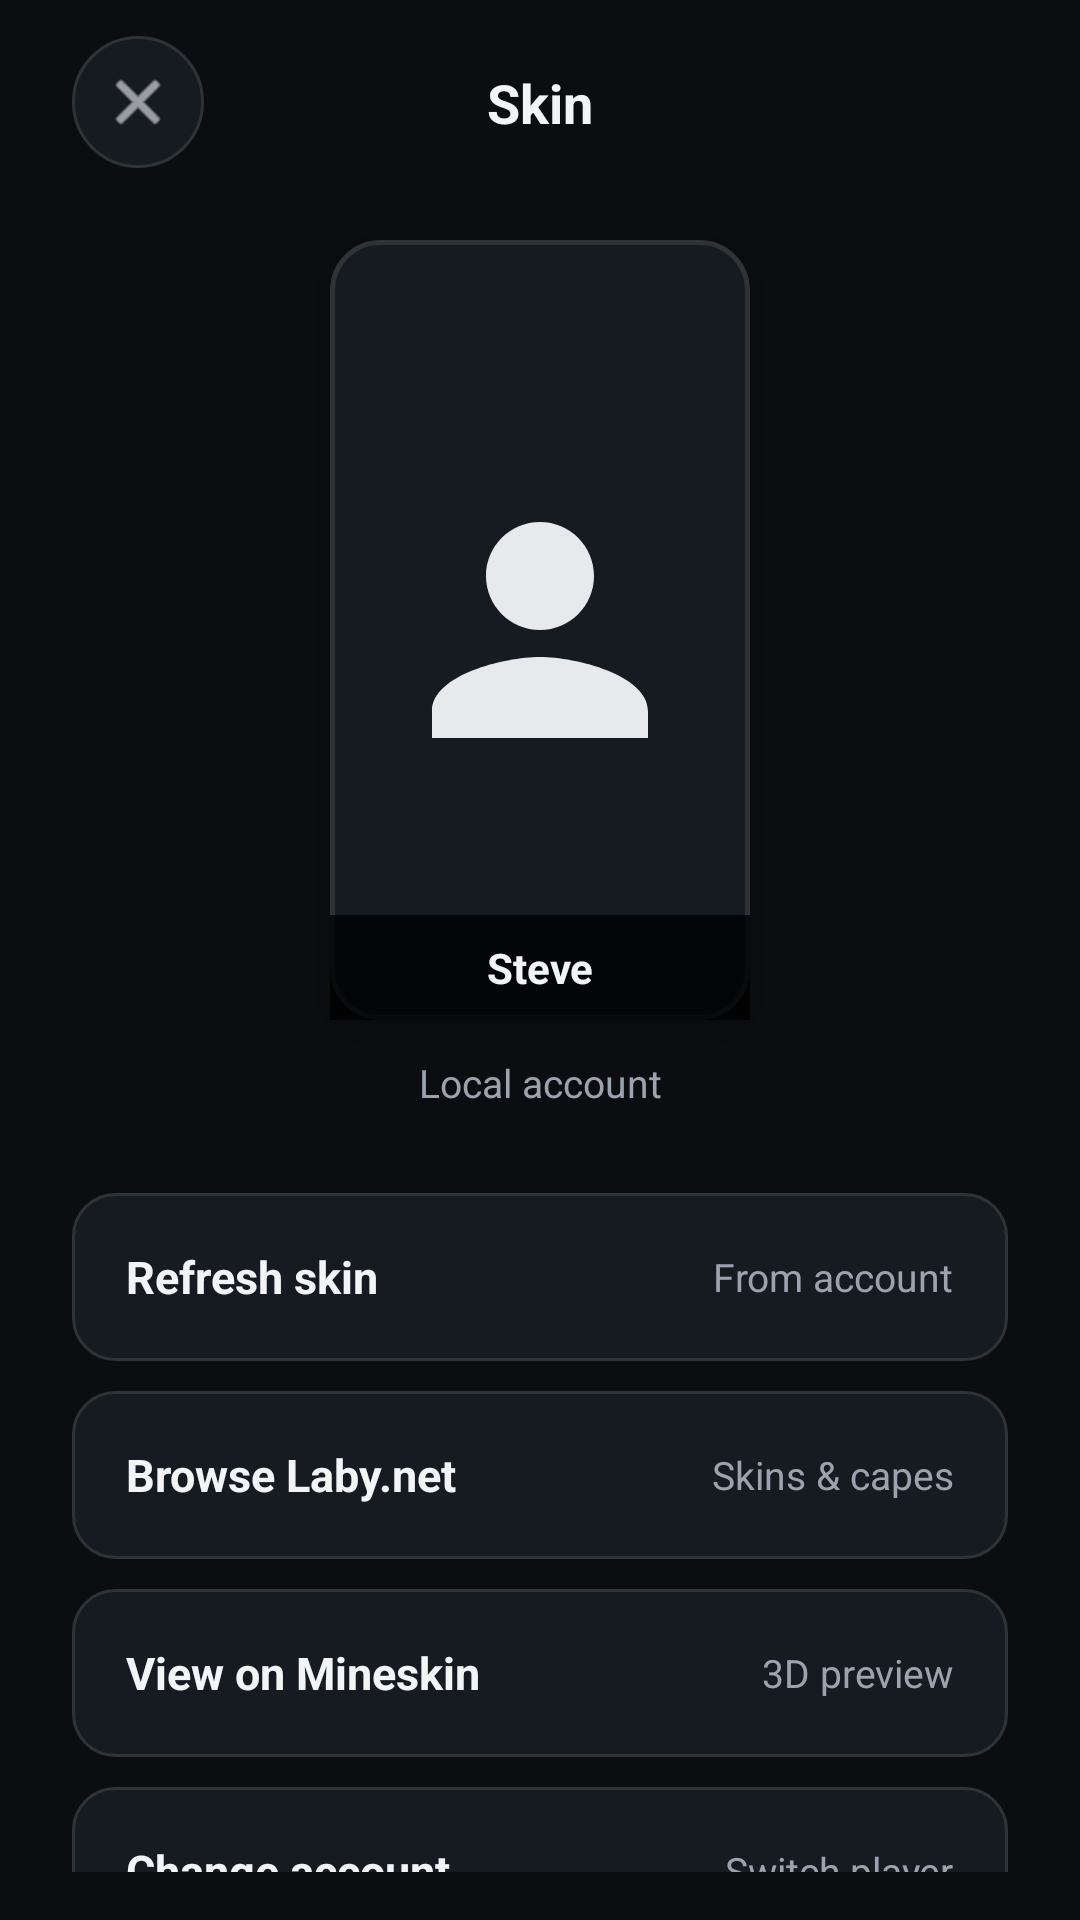

Icon bounding boxes for this 1080w x 1920h phone screenshot, format (x1, y1, x2, y2):
Back: (72, 36, 204, 168)
